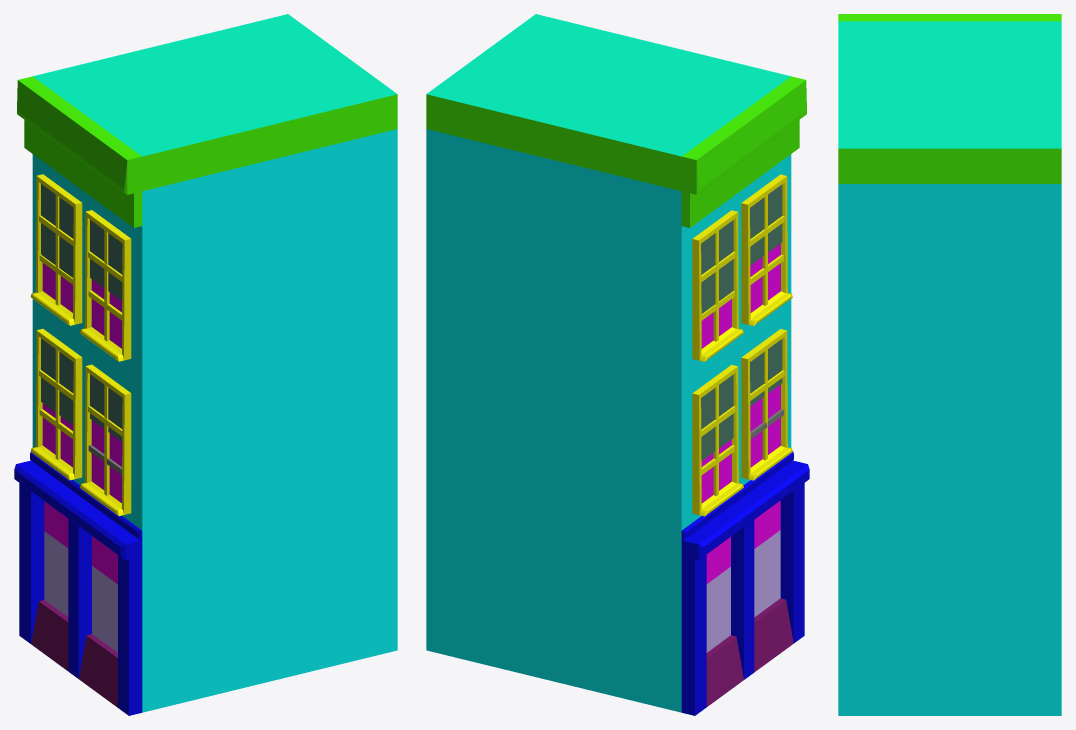
Rendered from huis4_model.obj.
3 views of the same model, side by side, from view 1: azimuth 30°, elevation 25°; view 2: azimuth 150°, elevation 25°; view 3: azimuth 270°, elevation 25° (orthographic). The views are drawn at different scales.
Parts seen in each view (by area): view 1: pCube46; view 2: pCube46; view 3: pCube46.
Boxes of the visible parts, x1,y1,x2,y2 form: pCube46: (14,14,397,715); pCube46: (426,14,809,715); pCube46: (838,14,1061,715).
Size of the model in its own units: 9.66 by 18.64 by 6.66.
